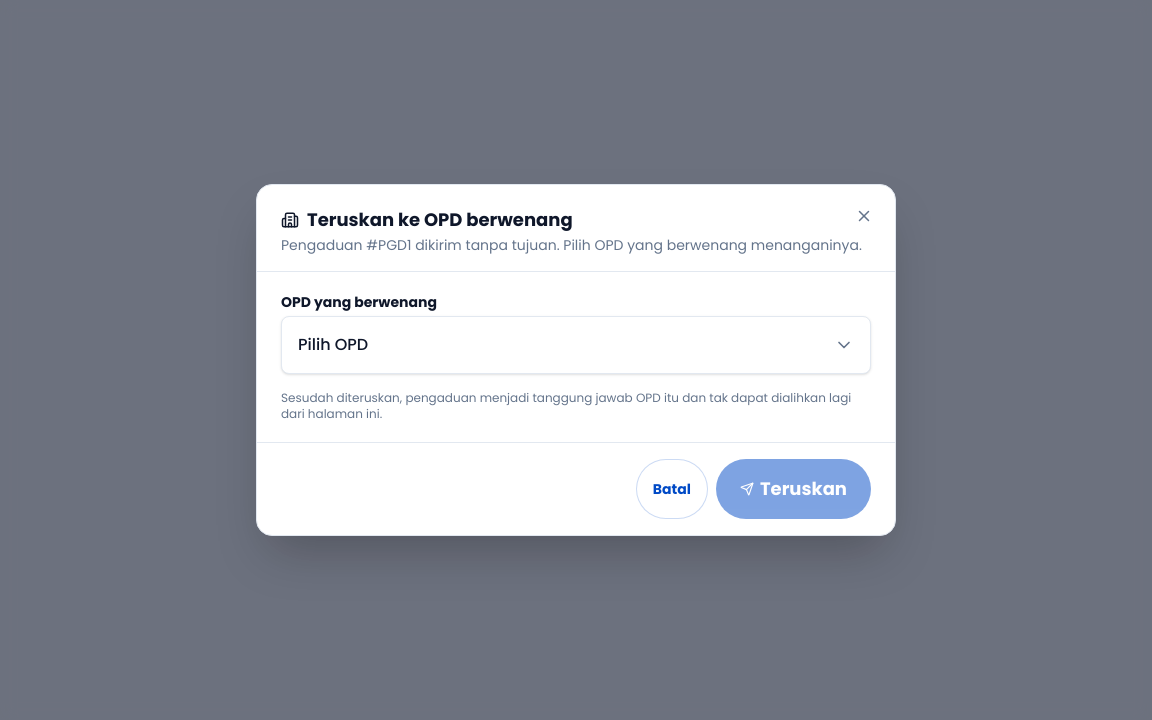
ForwardComplaintModal — pencarian OPD › hasil pencarian tetap dapat dipilih dan mengaktifkan tombol Teruskan
The width and height of the screenshot is (1152, 720).
Click the button named "opd yang berwenang": (333, 345) [281,316,871,374]
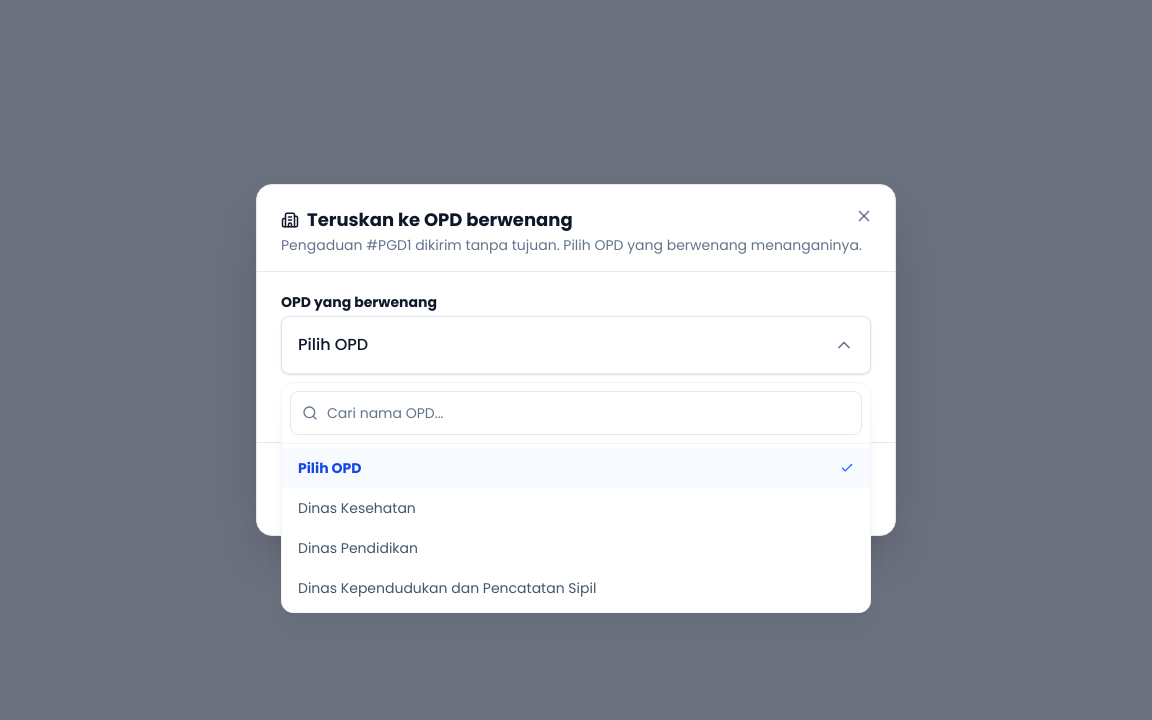
In the field named "cari opd yang berwenang": (576, 413) [290,391,862,435], type "kependudukan"
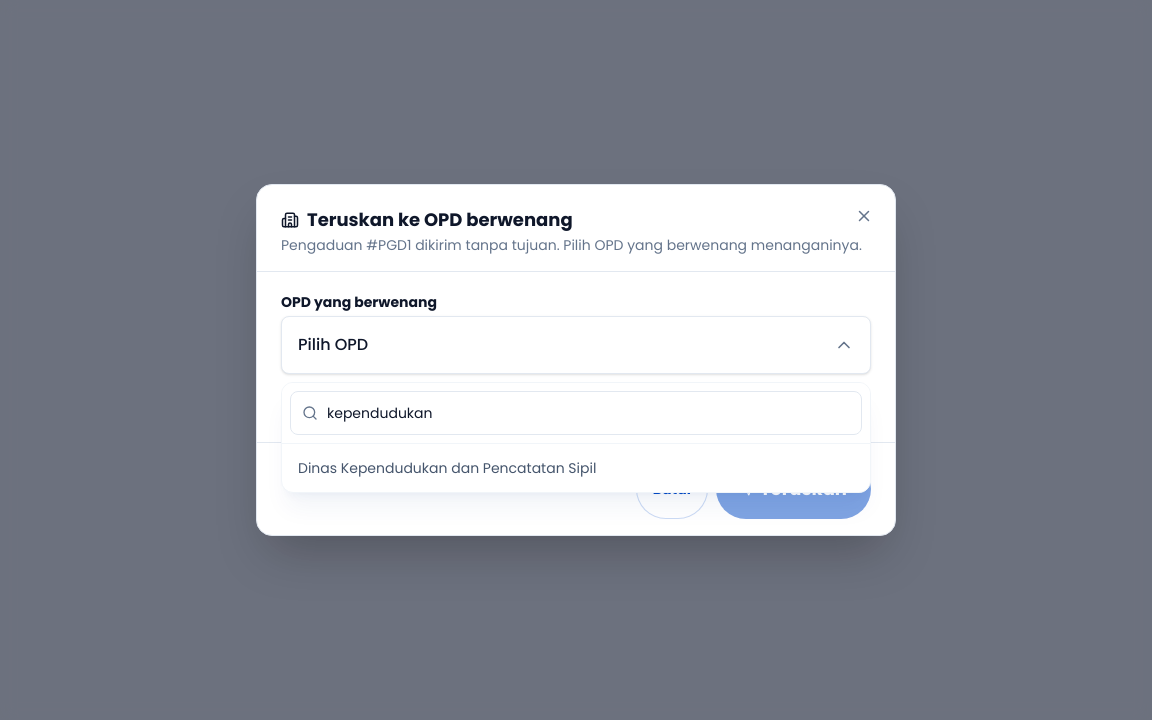
Click the button "Dinas Kependudukan dan Pencatatan Sipil": (576, 468) [282,448,870,488]
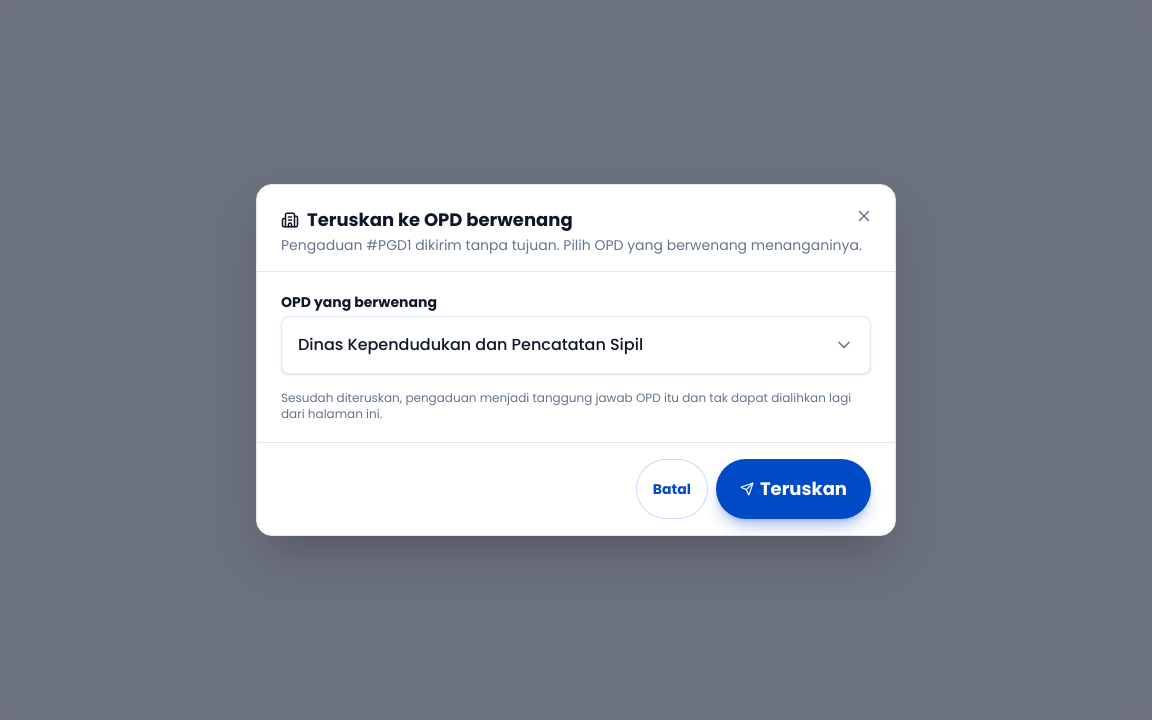
Expected: the button "Teruskan" is enabled, [716,459,871,519]
